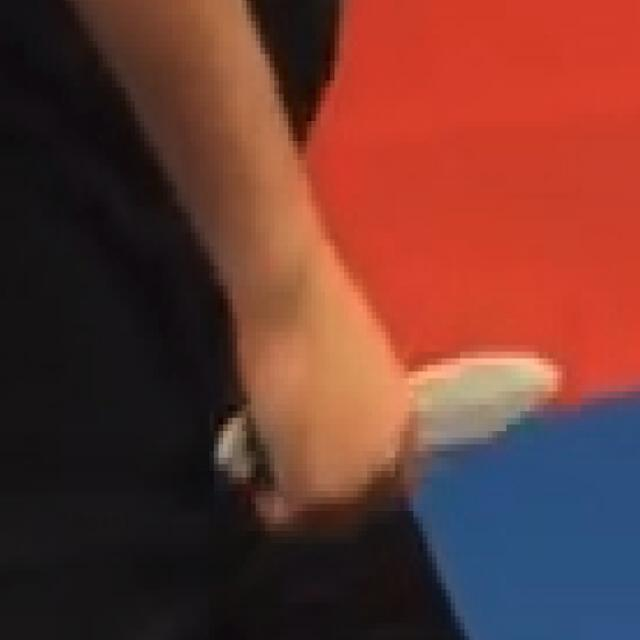suspicion: (64, 4, 575, 540), (416, 347, 569, 458), (210, 410, 253, 486)
